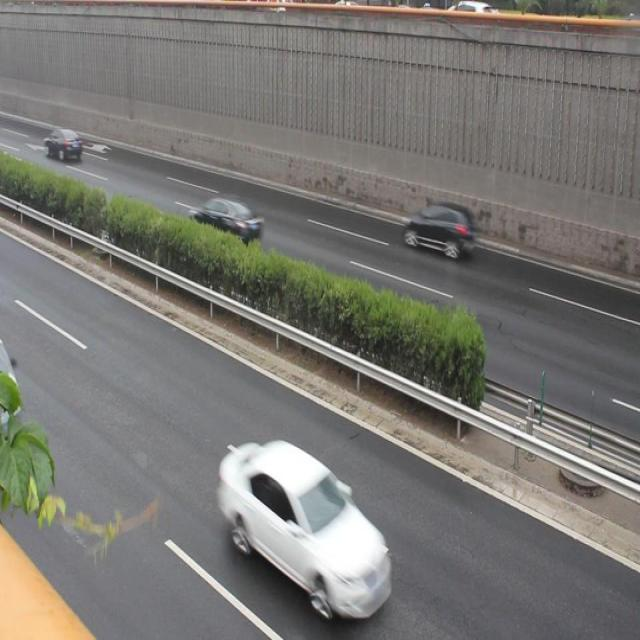car: (219, 440, 392, 612), (402, 200, 476, 260), (187, 198, 262, 250)
